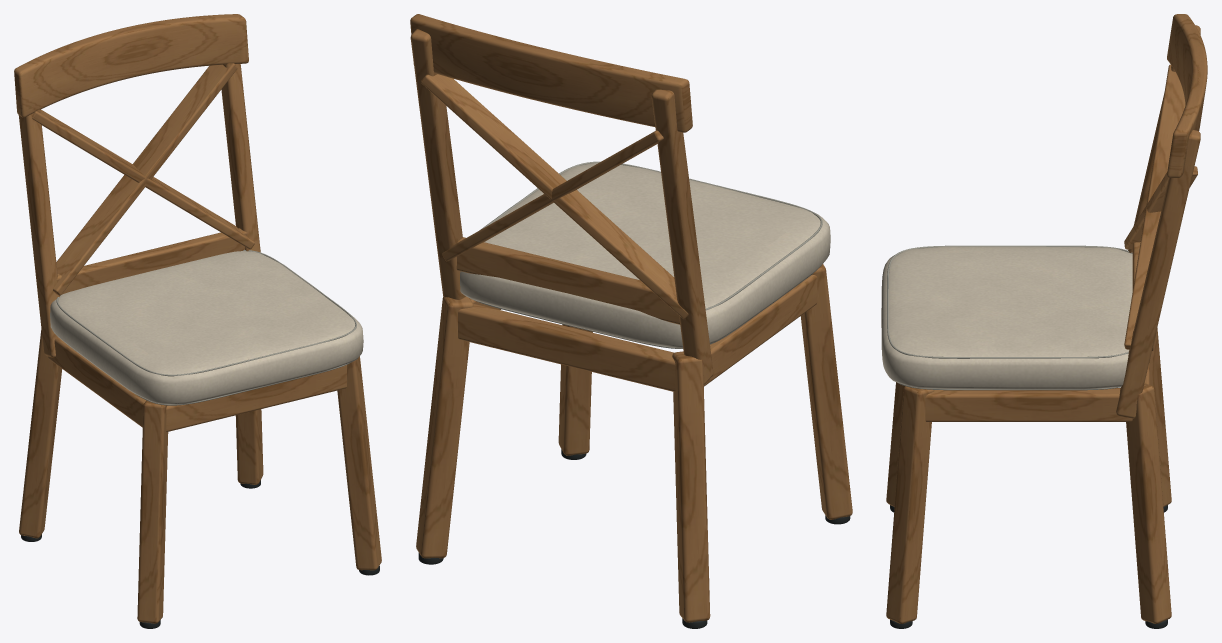
Rendered from universal-crossback-chair.glb.
3 renders of one model, left to right at view 1: azimuth 30°, elevation 25°; view 2: azimuth 150°, elevation 25°; view 3: azimuth 270°, elevation 25°, orthographic. The views are drawn at different scales.
Parts seen in each view (by area): view 1: Linen | square cross-back seat, Oak | shallow curved crest, Oak | crossed broad back slat, Frame | timber leg, Frame | timber leg.002, Oak | rear stile, Frame | timber leg.001, Frame | cross apron, Oak | rear stile.001, Oak | low back cross rail, Oak | crossed broad back slat.001, Frame | side apron (+2 smaller); view 2: Linen | square cross-back seat, Oak | shallow curved crest, Frame | cross apron.001, Frame | timber leg.001, Oak | crossed broad back slat, Frame | timber leg.003, Oak | rear stile, Frame | timber leg, Oak | low back cross rail, Oak | rear stile.001, Frame | side apron, Oak | crossed broad back slat.001 (+2 smaller); view 3: Linen | square cross-back seat, Frame | timber leg.002, Frame | timber leg.003, Frame | side apron.001, Oak | rear stile.001, Oak | shallow curved crest, Oak | crossed broad back slat.001, Frame | timber leg.001, Linen | square cross-back seat | upper tailored welt, Frame | timber leg, Oak | crossed broad back slat, Oak | rear stile.
Part boxes in pixels (bbox=[...]): Linen | square cross-back seat: bbox=[50, 251, 363, 404]; Oak | shallow curved crest: bbox=[14, 14, 248, 117]; Oak | crossed broad back slat: bbox=[53, 63, 237, 295]; Frame | timber leg: bbox=[137, 400, 168, 623]; Frame | timber leg.002: bbox=[337, 356, 381, 570]; Oak | rear stile: bbox=[18, 109, 59, 357]; Frame | timber leg.001: bbox=[19, 329, 62, 538]; Frame | cross apron: bbox=[166, 365, 346, 431]; Oak | rear stile.001: bbox=[221, 63, 260, 252]; Oak | low back cross rail: bbox=[56, 228, 247, 294]; Oak | crossed broad back slat.001: bbox=[32, 109, 254, 249]; Frame | side apron: bbox=[48, 337, 146, 427]; Linen | square cross-back seat: bbox=[460, 162, 830, 348]; Oak | shallow curved crest: bbox=[410, 14, 692, 132]; Frame | cross apron.001: bbox=[458, 303, 675, 391]; Frame | timber leg.001: bbox=[672, 351, 710, 622]; Oak | crossed broad back slat: bbox=[421, 74, 688, 319]; Frame | timber leg.003: bbox=[416, 296, 473, 558]; Oak | rear stile: bbox=[651, 89, 713, 384]; Frame | timber leg: bbox=[800, 264, 852, 519]; Oak | low back cross rail: bbox=[456, 237, 680, 324]; Oak | rear stile.001: bbox=[410, 29, 465, 299]; Frame | side apron: bbox=[703, 275, 817, 386]; Oak | crossed broad back slat.001: bbox=[442, 130, 663, 261]; Linen | square cross-back seat: bbox=[881, 246, 1132, 389]; Frame | timber leg.002: bbox=[886, 386, 934, 623]; Frame | timber leg.003: bbox=[1126, 383, 1171, 623]; Frame | side apron.001: bbox=[925, 388, 1132, 421]; Oak | rear stile.001: bbox=[1116, 130, 1200, 418]; Oak | shallow curved crest: bbox=[1167, 14, 1207, 177]; Oak | crossed broad back slat.001: bbox=[1124, 64, 1185, 350]; Frame | timber leg.001: bbox=[1150, 328, 1171, 506]; Linen | square cross-back seat | upper tailored welt: bbox=[887, 245, 1132, 358]; Frame | timber leg: bbox=[886, 382, 904, 506]; Oak | crossed broad back slat: bbox=[1124, 166, 1197, 249]; Oak | rear stile: bbox=[1128, 25, 1200, 252].
Size of the model in its own units: 0.5374 by 0.9825 by 0.58.
4 materials, 2 textured.
